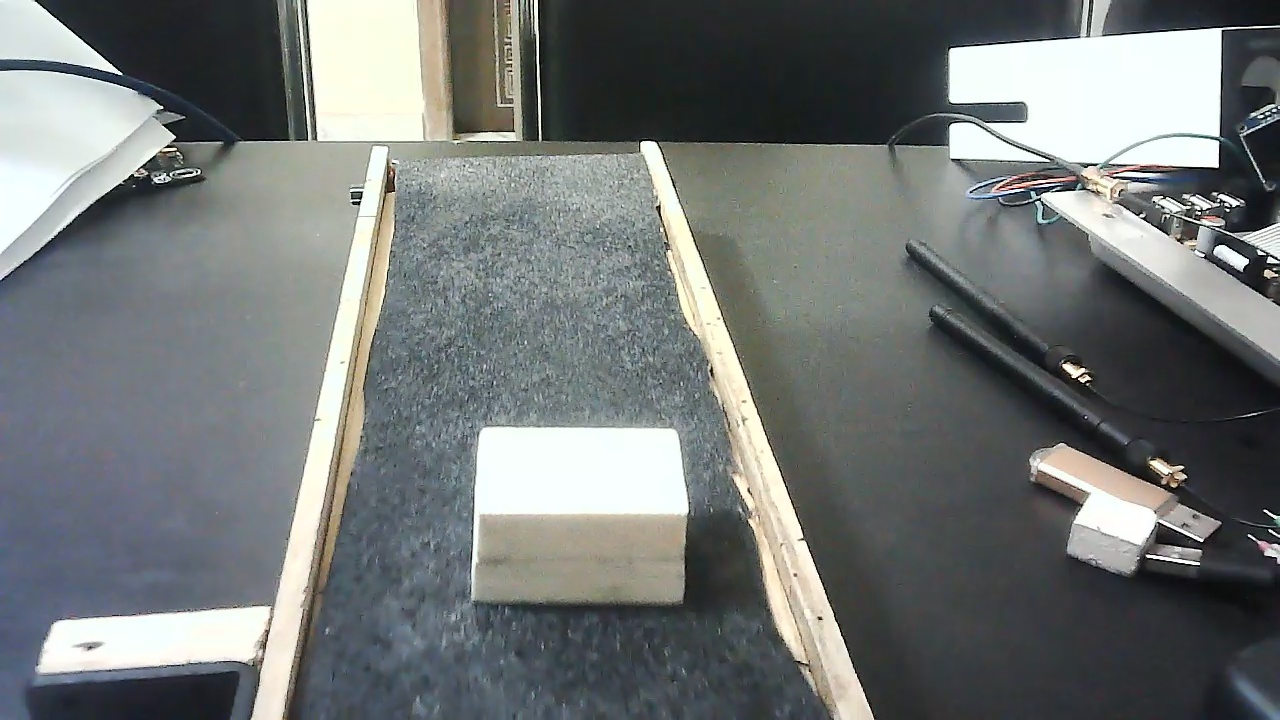BIG: (472, 409, 687, 624)
